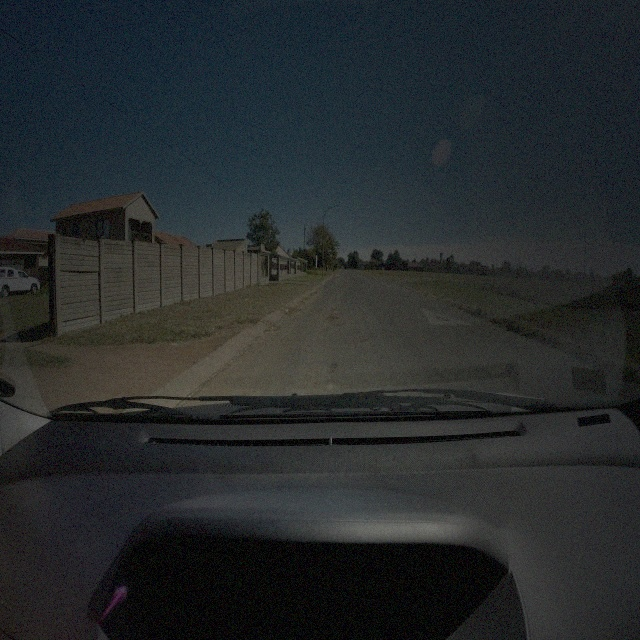pothole: (328, 361, 339, 377), (326, 313, 338, 326)
